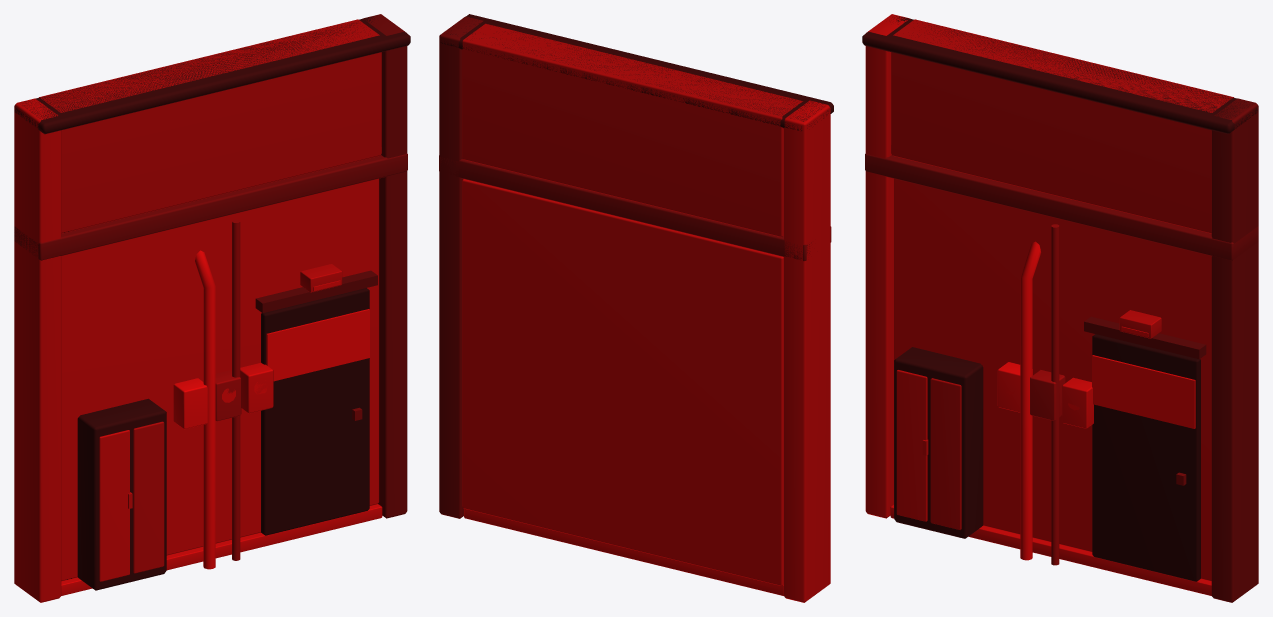
File: wall_service_a.glb
3 views of the same model, side by side, from view 1: azimuth 30°, elevation 25°; view 2: azimuth 150°, elevation 25°; view 3: azimuth 330°, elevation 25° (orthographic).
Visible parts, largest first — view 1: wall_service_a; view 2: wall_service_a; view 3: wall_service_a.
Boxes of the visible parts, x1=… form: wall_service_a: x1=14, y1=14, x2=410, y2=602; wall_service_a: x1=439, y1=14, x2=833, y2=602; wall_service_a: x1=862, y1=14, x2=1258, y2=602.
Size of the model in its own units: 4 by 5 by 0.79.
